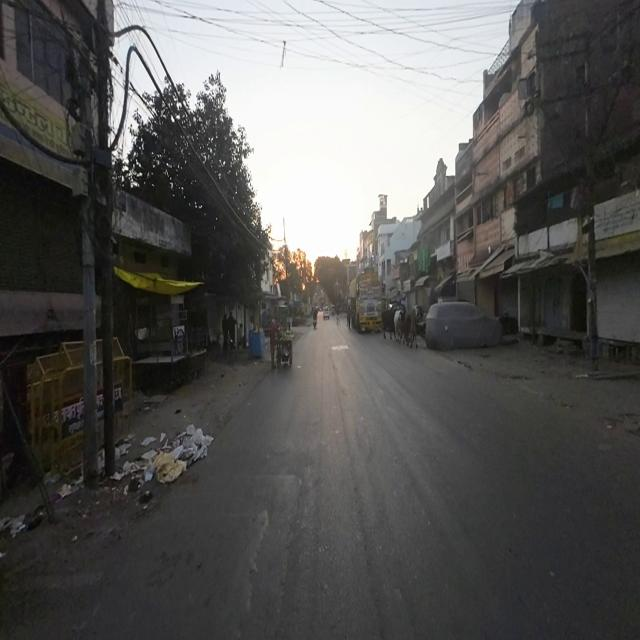Garbage: (111, 418, 210, 504)
